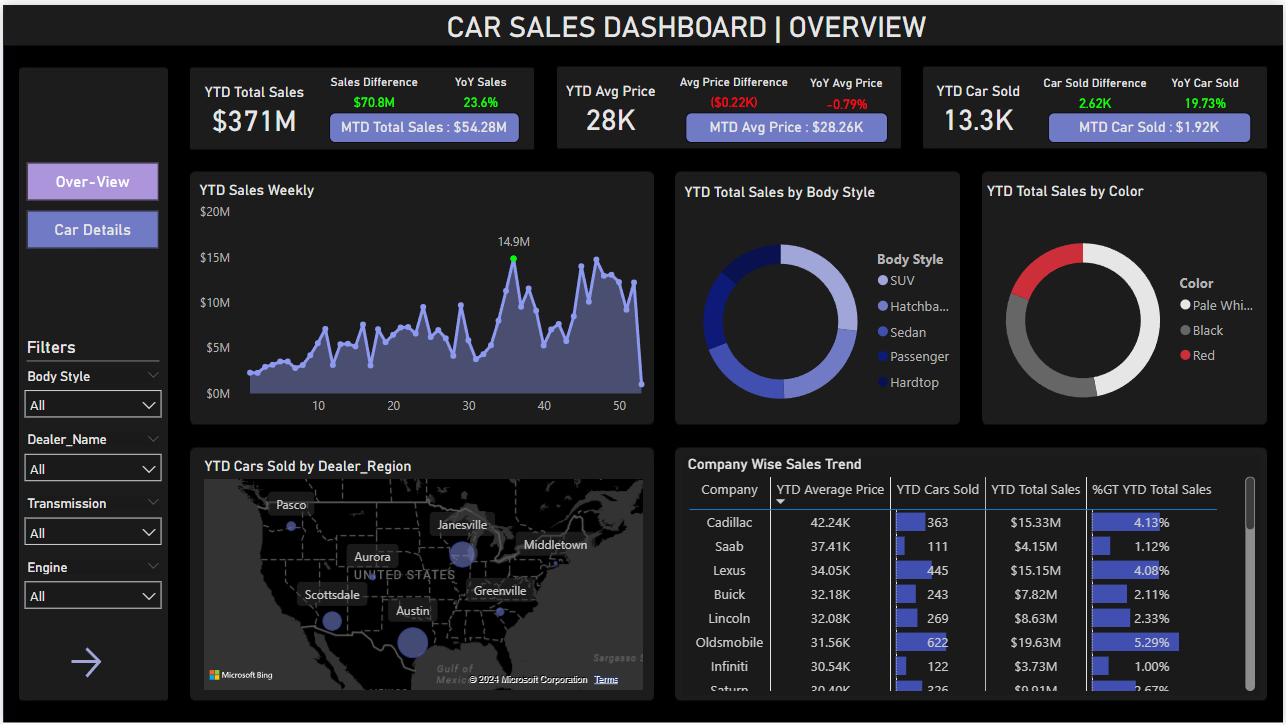

The dashboard page shown, as its layout file describes it:
{"tool":"powerbi","page":{"name":"Over-View","canvas":[1280,720],"ordinal":0},"visuals":[{"type":"card","title":"YTD Total Sales","fields":{"Values":["car_data.YTD Total Sales"]},"box":[170,77.5,162.5,55],"z":0,"group":"g1"},{"type":"areaChart","title":"YTD Sales Weekly","fields":{"Category":["Calender Table.Week"],"Y":["Sum(car_data.Price ($))","car_data.Max Point"]},"box":[191.2,176.2,462.5,242.5],"z":0},{"type":"slicer","fields":{"Values":["car_data.Body Style"]},"box":[11.4,357.8,157.5,63.8],"z":0,"group":"g6"},{"type":"card","title":"Sales Difference","fields":{"Values":["car_data.Sale Difference"]},"box":[303.8,69.4,135,40],"z":1000,"group":"g7"},{"type":"donutChart","fields":{"Category":["car_data.Body Style"],"Y":["car_data.YTD Total Sales"]},"box":[676.5,178.4,286.8,259.3],"z":1000},{"type":"slicer","fields":{"Values":["car_data.Dealer_Name"]},"box":[11.4,421.6,157.5,63.8],"z":1000,"group":"g6"},{"type":"card","title":"YoY Sales","fields":{"Values":["car_data.YoY Sales Growth"]},"box":[410,69.4,135.6,40],"z":2000,"group":"g7"},{"type":"donutChart","fields":{"Category":["car_data.Color"],"Y":["car_data.YTD Total Sales"]},"box":[978.4,177,286.8,259.3],"z":2000},{"type":"slicer","fields":{"Values":["car_data.Transmission"]},"box":[11.4,485.3,157.5,63.8],"z":2000,"group":"g6"},{"type":"card","fields":{"Values":["car_data.MTD KPI"]},"box":[325.8,107.2,190,30],"z":3000,"group":"g8"},{"type":"map","fields":{"Category":["car_data.Dealer_Region"],"Size":["car_data.YTD Cars Sold"]},"box":[196.2,452.8,448.7,237.4],"z":3000},{"type":"slicer","fields":{"Values":["car_data.Engine"]},"box":[11.4,549,157.5,63.8],"z":3000,"group":"g6"},{"type":"card","title":"YTD Avg Price","fields":{"Values":["car_data.YTD Average Price"]},"box":[525.7,77.1,162.9,54.3],"z":4000,"group":"g2"},{"type":"tableEx","title":"Company Wise Sales Trend","fields":{"Values":["car_data.Company","car_data.YTD Average Price","car_data.YTD Cars Sold","car_data.YTD Total Sales","Divide(car_data.YTD Total Sales, ScopedEval(car_data.YTD Total Sales, []))"]},"box":[680,450,576.7,241.1],"z":4000},{"type":"textbox","box":[439.1,0,496.7,70],"z":5000},{"type":"card","title":"YoY Avg Price ","fields":{"Values":["car_data.YoY Avg Price Growth"]},"box":[775.7,71.4,134.3,38.6],"z":5000,"group":"g9"},{"type":"group","id":"g1","title":"Group 4","box":[170,69.4,375.6,67.8],"z":6000},{"type":"card","title":"Avg Price Difference","fields":{"Values":["car_data.Avg Price Difference"]},"box":[662.8,70,134.3,40],"z":6000,"group":"g9"},{"type":"group","id":"g2","title":"Group 7","box":[525.7,70,384.3,67.5],"z":7000},{"type":"card","fields":{"Values":["car_data.MTD AVG Price KPI"]},"box":[681.2,107.5,202.5,30],"z":7000,"group":"g10"},{"type":"group","id":"g3","title":"Group 9","box":[894.3,71.4,375.7,65.7],"z":8000},{"type":"card","title":"YTD Car Sold","fields":{"Values":["car_data.YTD Cars Sold"]},"box":[894.3,77.1,162.9,54.3],"z":8000,"group":"g3"},{"type":"card","title":"Car Sold Difference","fields":{"Values":["car_data.Car Sold Diff"]},"box":[1025.7,71.4,134.3,40],"z":9000,"group":"g11"},{"type":"group","id":"g4","title":"Group 11","box":[11.4,327.1,157.5,285.8],"z":9000},{"type":"textbox","box":[18.5,327.1,137.1,34.3],"z":9000,"group":"g4"},{"type":"card","title":"YoY Car Sold","fields":{"Values":["car_data.YoY Car Sold Growth"]},"box":[1135.7,71.4,134.3,40],"z":10000,"group":"g11"},{"type":"pageNavigator","box":[24.3,157.1,132.9,87.1],"z":10000},{"type":"group","id":"g5","title":"Group 10","box":[11.4,327.2,157.5,285.6],"z":10000,"group":"g4"},{"type":"card","fields":{"Values":["car_data.MTD Car Sold KPI"]},"box":[1045.7,107.1,202.9,30],"z":11000,"group":"g11"},{"type":"actionButton","box":[62.9,637.1,47.1,40],"z":11000},{"type":"group","id":"g6","title":"Group 1","box":[11.4,357.8,157.5,255],"z":16006,"group":"g5"},{"type":"group","id":"g7","title":"Group 2","box":[303.8,69.4,241.8,40],"z":16007,"group":"g8"},{"type":"group","id":"g8","title":"Group 3","box":[303.8,69.4,241.8,67.8],"z":16008,"group":"g1"},{"type":"group","id":"g9","title":"Group 5","box":[662.8,70,247.1,40],"z":16010,"group":"g10"},{"type":"group","id":"g10","title":"Group 6","box":[662.8,70,247.1,67.5],"z":16011,"group":"g2"},{"type":"group","id":"g11","title":"Group 8","box":[1025.7,71.4,244.3,65.7],"z":16013,"group":"g3"},{"type":"shape","box":[23.6,327.2,132.5,56.9],"z":16016,"group":"g5"}]}

Visuals, with their boxes in screenshot pixels (x1, y1, x2, y2), scaled from the page's 1280x720 canvas onto the 1286x725 screenshot:
"YTD Total Sales" card: <bbox>171, 78, 334, 133</bbox>
"YTD Sales Weekly" areaChart: <bbox>192, 177, 657, 422</bbox>
slicer - car_data.Body Style: <bbox>11, 360, 170, 425</bbox>
"Sales Difference" card: <bbox>305, 70, 441, 110</bbox>
donutChart - car_data.Body Style x car_data.YTD Total Sales: <bbox>680, 180, 968, 441</bbox>
slicer - car_data.Dealer_Name: <bbox>11, 425, 170, 489</bbox>
"YoY Sales" card: <bbox>412, 70, 548, 110</bbox>
donutChart - car_data.Color x car_data.YTD Total Sales: <bbox>983, 178, 1271, 439</bbox>
slicer - car_data.Transmission: <bbox>11, 489, 170, 553</bbox>
card - car_data.MTD KPI: <bbox>327, 108, 518, 138</bbox>
map - car_data.Dealer_Region x car_data.YTD Cars Sold: <bbox>197, 456, 648, 695</bbox>
slicer - car_data.Engine: <bbox>11, 553, 170, 617</bbox>
"YTD Avg Price" card: <bbox>528, 78, 692, 132</bbox>
"Company Wise Sales Trend" tableEx: <bbox>683, 453, 1263, 696</bbox>
textbox: <bbox>441, 0, 940, 70</bbox>
"YoY Avg Price " card: <bbox>779, 72, 914, 111</bbox>
"Group 4" group: <bbox>171, 70, 548, 138</bbox>
"Avg Price Difference" card: <bbox>666, 70, 801, 111</bbox>
"Group 7" group: <bbox>528, 70, 914, 138</bbox>
card - car_data.MTD AVG Price KPI: <bbox>684, 108, 888, 138</bbox>
"Group 9" group: <bbox>898, 72, 1276, 138</bbox>
"YTD Car Sold" card: <bbox>898, 78, 1062, 132</bbox>
"Car Sold Difference" card: <bbox>1031, 72, 1165, 112</bbox>
"Group 11" group: <bbox>11, 329, 170, 617</bbox>
textbox: <bbox>19, 329, 156, 364</bbox>
"YoY Car Sold" card: <bbox>1141, 72, 1276, 112</bbox>
pageNavigator: <bbox>24, 158, 158, 246</bbox>
"Group 10" group: <bbox>11, 329, 170, 617</bbox>
card - car_data.MTD Car Sold KPI: <bbox>1051, 108, 1254, 138</bbox>
actionButton: <bbox>63, 642, 111, 682</bbox>
"Group 1" group: <bbox>11, 360, 170, 617</bbox>
"Group 2" group: <bbox>305, 70, 548, 110</bbox>
"Group 3" group: <bbox>305, 70, 548, 138</bbox>
"Group 5" group: <bbox>666, 70, 914, 111</bbox>
"Group 6" group: <bbox>666, 70, 914, 138</bbox>
"Group 8" group: <bbox>1031, 72, 1276, 138</bbox>
shape: <bbox>24, 329, 157, 387</bbox>
